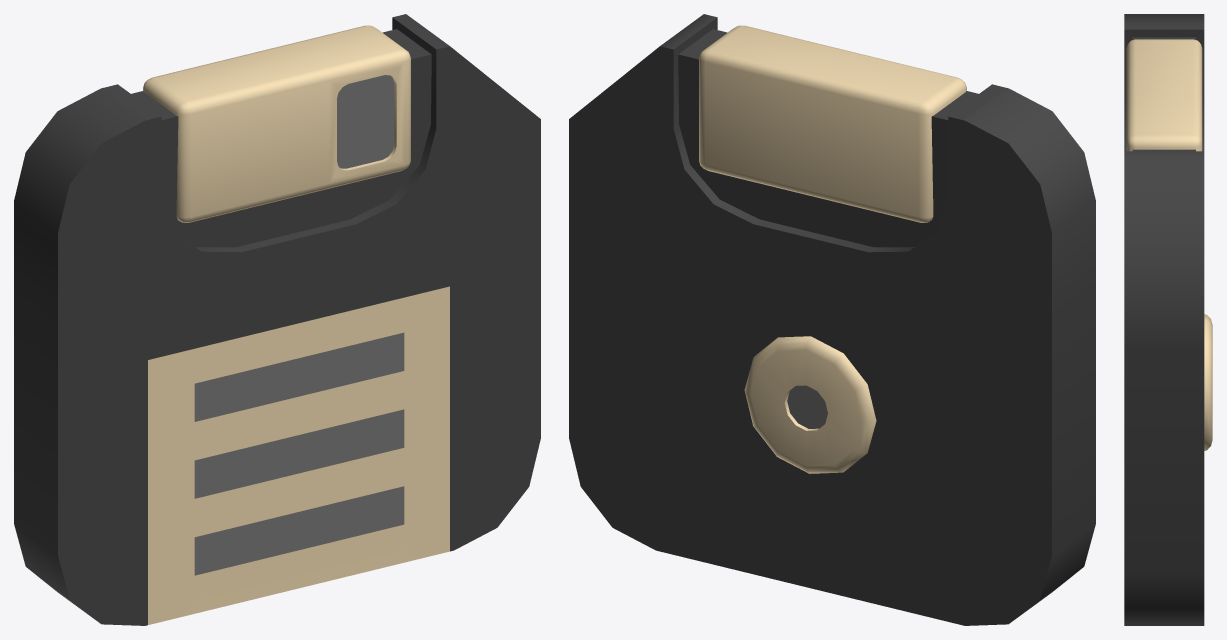
Rendered from Saving Icon_1.fbx.
3 views of the same model, side by side, from view 1: azimuth 30°, elevation 25°; view 2: azimuth 150°, elevation 25°; view 3: azimuth 270°, elevation 25° (orthographic). The views are drawn at different scales.
Parts seen in each view (by area): view 1: Saving Icon_1; view 2: Saving Icon_1; view 3: Saving Icon_1.
Boxes of the visible parts, x1=… form: Saving Icon_1: x1=14, y1=14, x2=540, y2=625; Saving Icon_1: x1=569, y1=14, x2=1095, y2=625; Saving Icon_1: x1=1124, y1=14, x2=1212, y2=625.
Bounding box in the file's own units: 0.2648 × 0.2663 × 0.0461.
